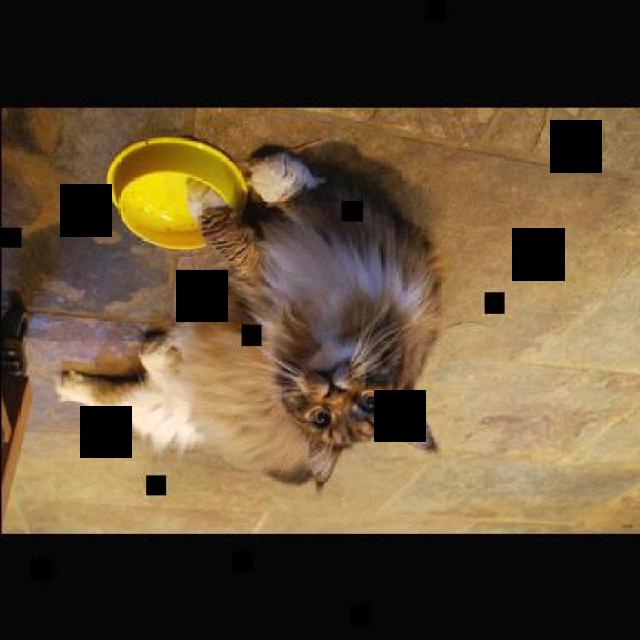unauthorized: (55, 143, 443, 489)
